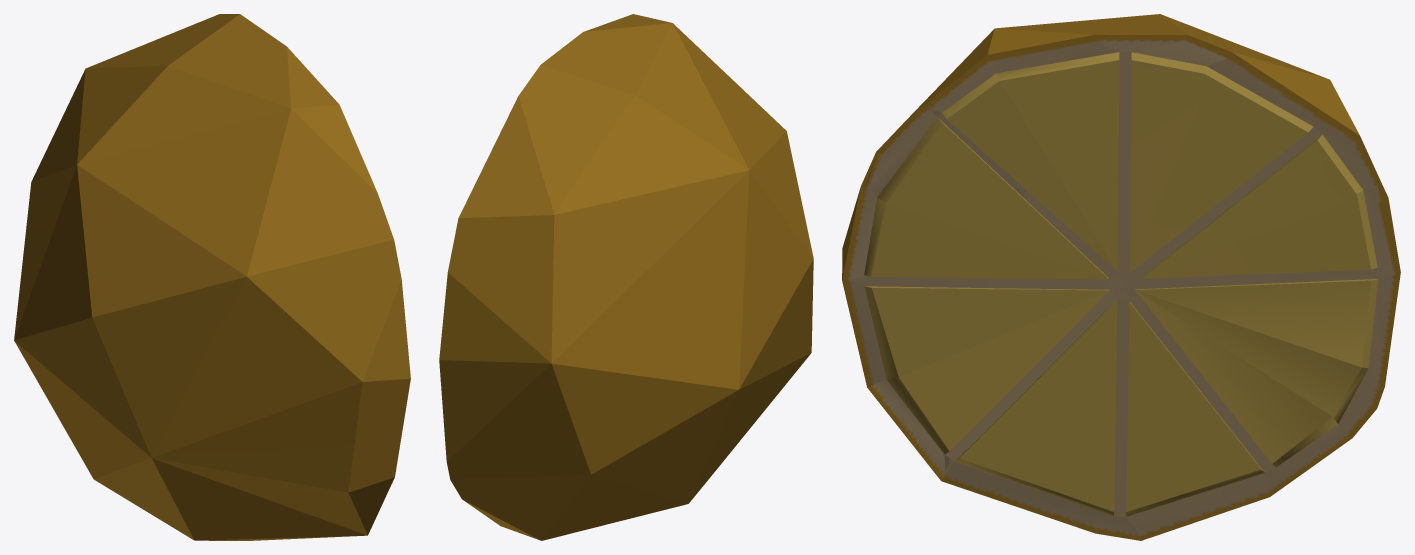
File: roasted_Orange.fbx
The picture shows the model from 3 angles, left to right: view 1: azimuth 30°, elevation 25°; view 2: azimuth 150°, elevation 25°; view 3: azimuth 270°, elevation 25°; orthographic projection. The views are drawn at different scales.
Visible parts, largest first — view 1: orenge; view 2: orenge; view 3: orenge.
Boxes of the visible parts, bbox=[...] form: orenge: bbox=[14, 14, 410, 540]; orenge: bbox=[439, 14, 813, 540]; orenge: bbox=[842, 14, 1400, 540].
Size of the model in its own units: 32.81 by 68.99 by 68.32.
1 material, 1 textured.
